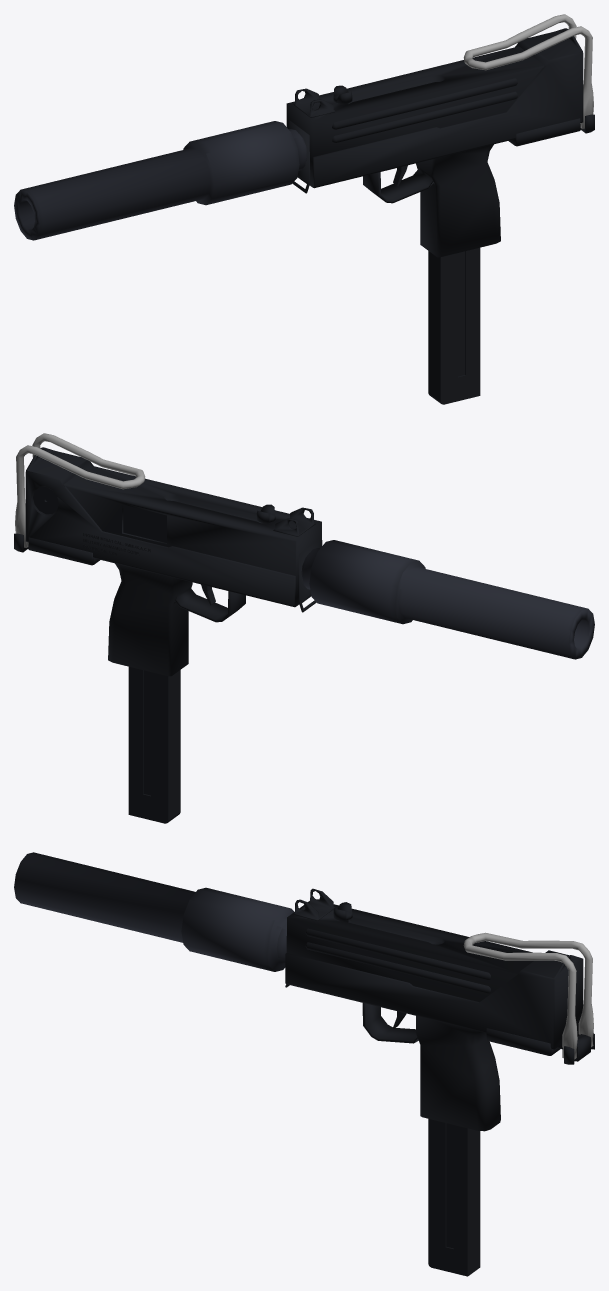
File: Mac10.glb
The picture shows the model from 3 angles, top to bottom: view 1: azimuth 30°, elevation 25°; view 2: azimuth 150°, elevation 25°; view 3: azimuth 330°, elevation 25°; orthographic projection.
Visible parts, largest first — view 1: Body, Mag, Shoulder Stop; view 2: Body, Mag, Shoulder Stop, Charging Handle; view 3: Body, Mag, Shoulder Stop, Stock.
Part boxes in pixels (<box>): Body: <box>14,28,583,257</box>; Mag: <box>428,247,480,404</box>; Shoulder Stop: <box>463,14,593,128</box>; Body: <box>25,447,594,676</box>; Mag: <box>128,666,180,823</box>; Shoulder Stop: <box>15,433,145,547</box>; Charging Handle: <box>123,504,275,542</box>; Body: <box>14,852,583,1131</box>; Mag: <box>428,1119,480,1276</box>; Shoulder Stop: <box>463,932,593,1059</box>; Stock: <box>557,1031,594,1064</box>.
Bounding box in the file's own units: 3.93 × 2.33 × 0.4004.
6 materials, 6 textured.
